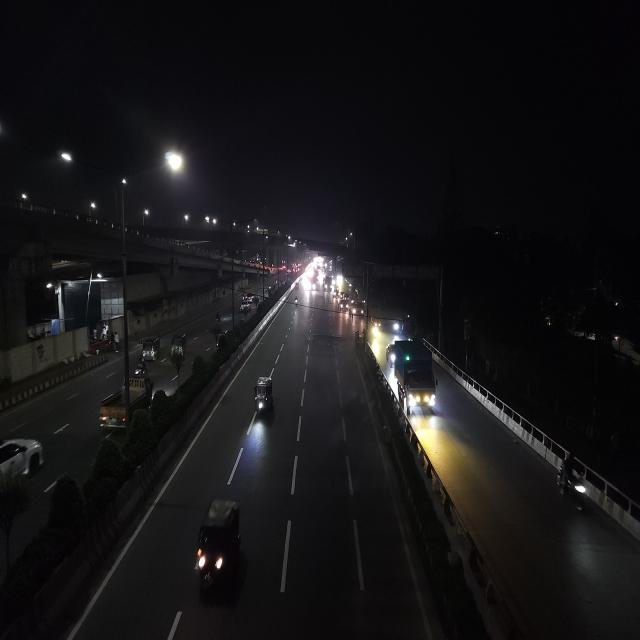car: (0, 429, 48, 524), (241, 292, 256, 306), (240, 295, 251, 312)
cng: (189, 493, 253, 610), (250, 371, 276, 422), (168, 332, 189, 362), (140, 334, 162, 362)
motorcycle: (554, 458, 589, 512), (391, 317, 403, 335), (214, 310, 224, 326)
truck: (394, 343, 440, 417), (94, 375, 152, 432)
